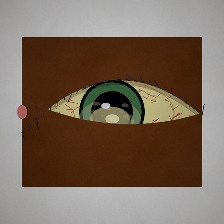corneal_ulcer: (77, 93, 142, 145)
